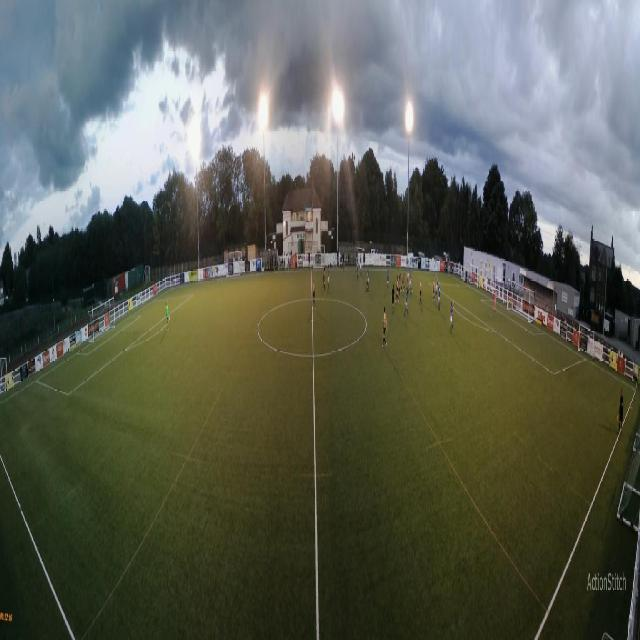ball: (412, 289, 413, 294)
player: (381, 305, 387, 349), (404, 286, 409, 317), (395, 274, 400, 304), (312, 278, 316, 312), (165, 300, 169, 332), (391, 283, 395, 315), (437, 281, 441, 312), (322, 266, 326, 293), (400, 273, 405, 294), (432, 278, 436, 304), (450, 301, 453, 335), (408, 270, 412, 295), (398, 273, 402, 294), (419, 278, 422, 306), (366, 269, 369, 295), (435, 273, 438, 299), (386, 268, 389, 293), (494, 289, 497, 313), (359, 255, 362, 277), (407, 265, 410, 285), (356, 263, 359, 282), (328, 265, 330, 292), (367, 265, 369, 290)
